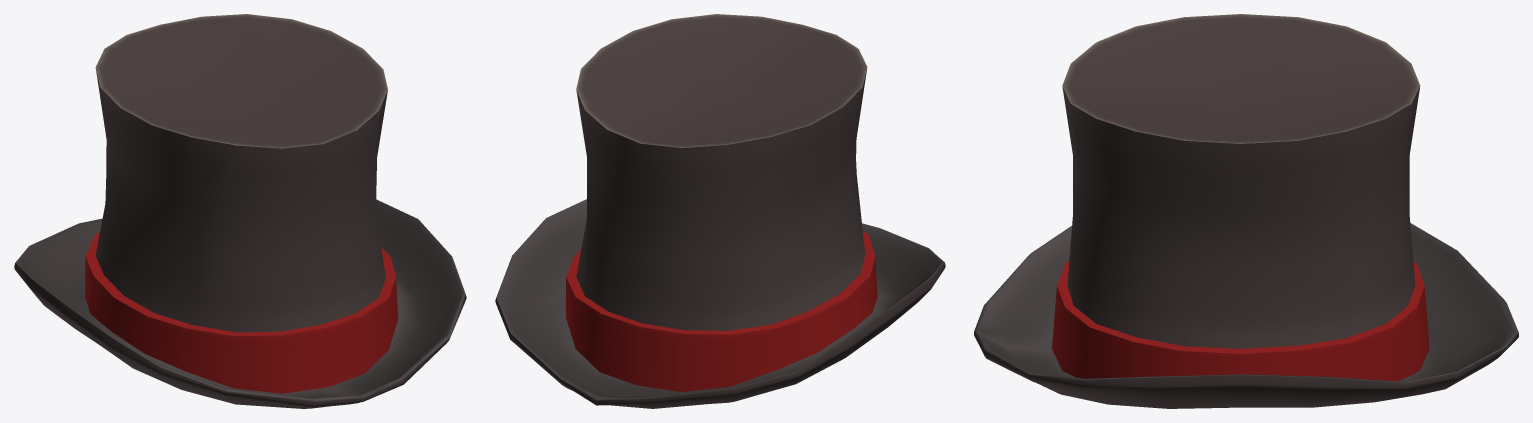
File: top_hat_draco.glb
The picture shows the model from 3 angles, left to right: view 1: azimuth 30°, elevation 25°; view 2: azimuth 150°, elevation 25°; view 3: azimuth 270°, elevation 25°; orthographic projection. The views are drawn at different scales.
Parts seen in each view (by area): view 1: Object_2; view 2: Object_2; view 3: Object_2.
Boxes of the visible parts, left/top/right/bottom form: Object_2: left=14, top=14, right=466, bottom=408; Object_2: left=495, top=14, right=945, bottom=408; Object_2: left=974, top=14, right=1518, bottom=408.
Bounding box in the file's own units: 6.79 × 4.64 × 8.22.
Materials: 1 (1 with a texture image).
